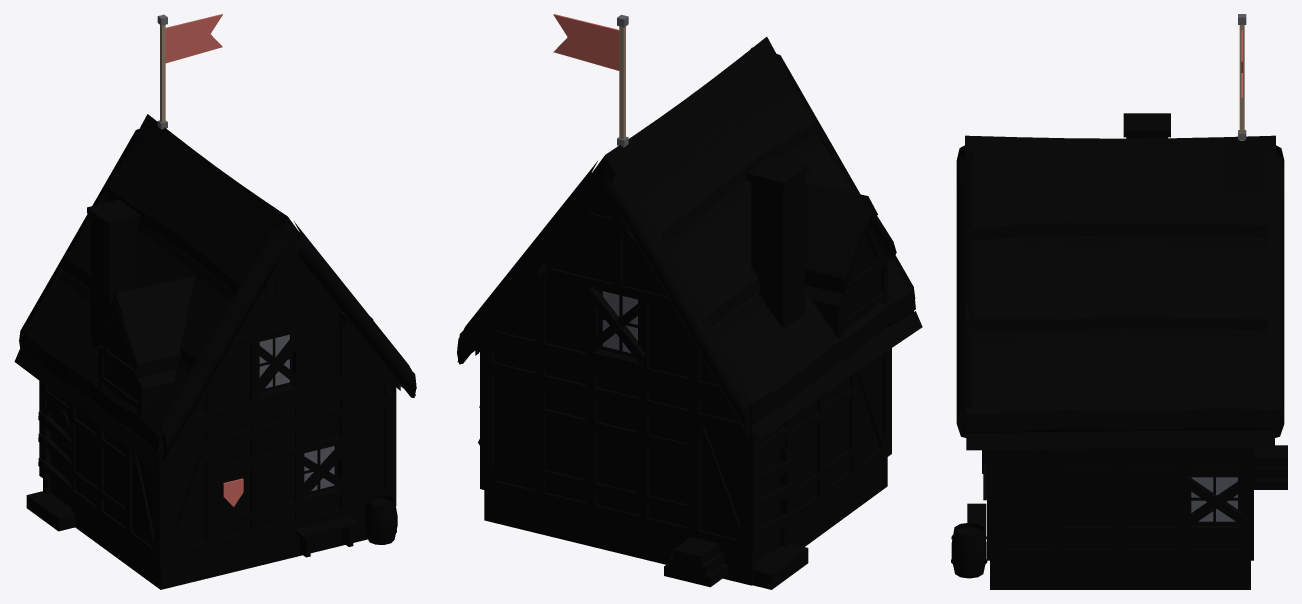
The model's file is wohnhaus_halbling_s1_g3.glb.
3 renders of one model, left to right at view 1: azimuth 30°, elevation 25°; view 2: azimuth 150°, elevation 25°; view 3: azimuth 270°, elevation 25°, orthographic. The views are drawn at different scales.
Visible parts, largest first — view 1: Haus, Dach, Leerstand, Fahne, Scheiben, Wappen; view 2: Haus, Dach, Fahne, Leerstand, Scheiben; view 3: Dach, Haus, Leerstand, Scheiben, Fahne.
Boxes of the visible parts, box(x1,y1,x2,y2) form: Haus: box(26, 199, 397, 589); Dach: box(14, 114, 416, 467); Leerstand: box(38, 331, 349, 498); Fahne: box(157, 14, 222, 129); Scheiben: box(259, 334, 334, 491); Wappen: box(220, 475, 244, 507); Haus: box(480, 155, 891, 589); Dach: box(457, 37, 922, 439); Fahne: box(553, 14, 628, 147); Leerstand: box(478, 287, 794, 541); Scheiben: box(602, 291, 637, 352); Dach: box(956, 135, 1284, 450); Haus: box(951, 113, 1287, 589); Leerstand: box(982, 450, 1249, 529); Scheiben: box(1191, 477, 1237, 521); Fahne: box(1238, 14, 1246, 140).
Bounding box in the file's own units: 5.84 × 9.51 × 5.67.
